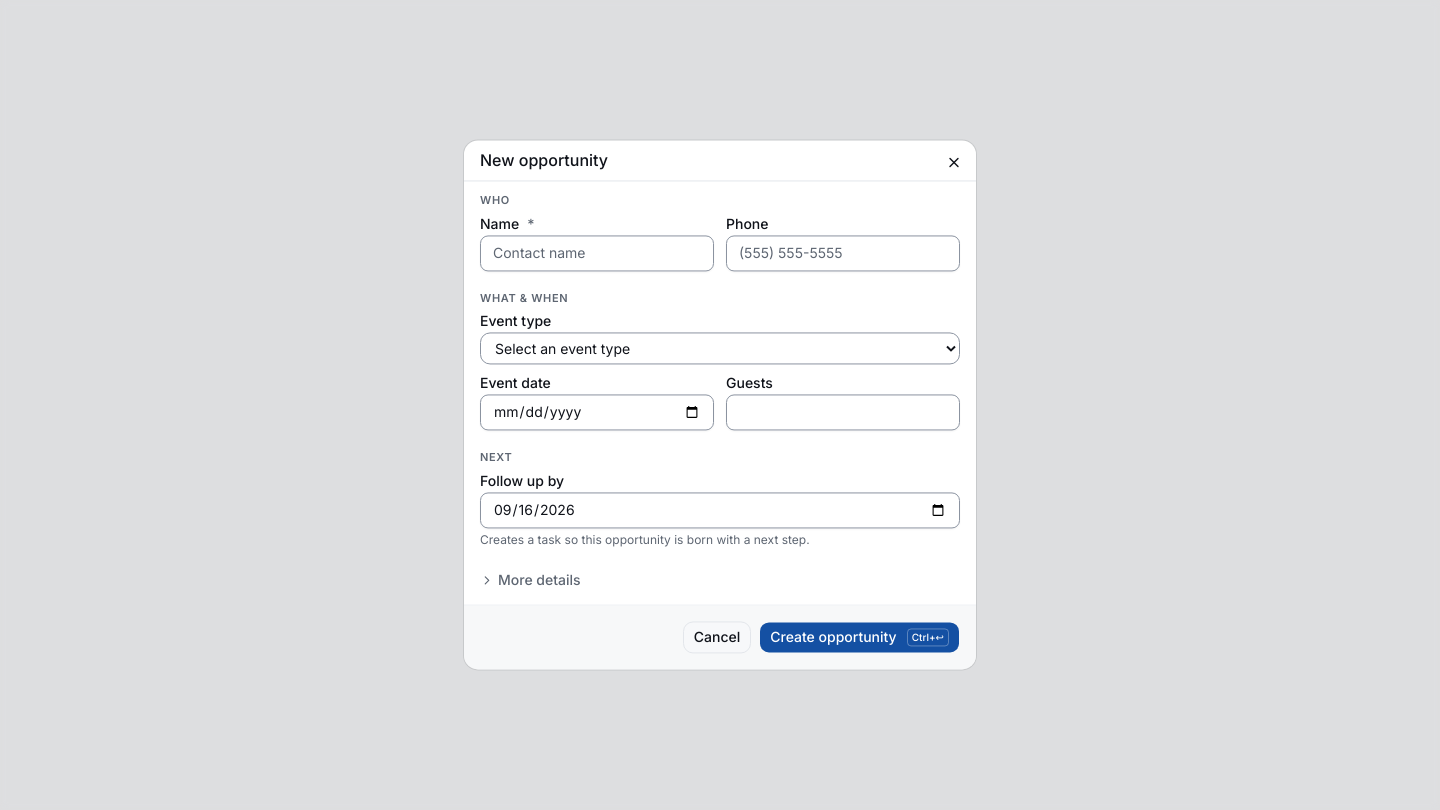
NewEventTypePopover (inline create-in-flow) › create › announces when the name already existed and its saved policy overrides the toggles
The width and height of the screenshot is (1440, 810).
Select "+ New event type…" in the dropdown labelled "Event type": (720, 349) [480,333,960,365]
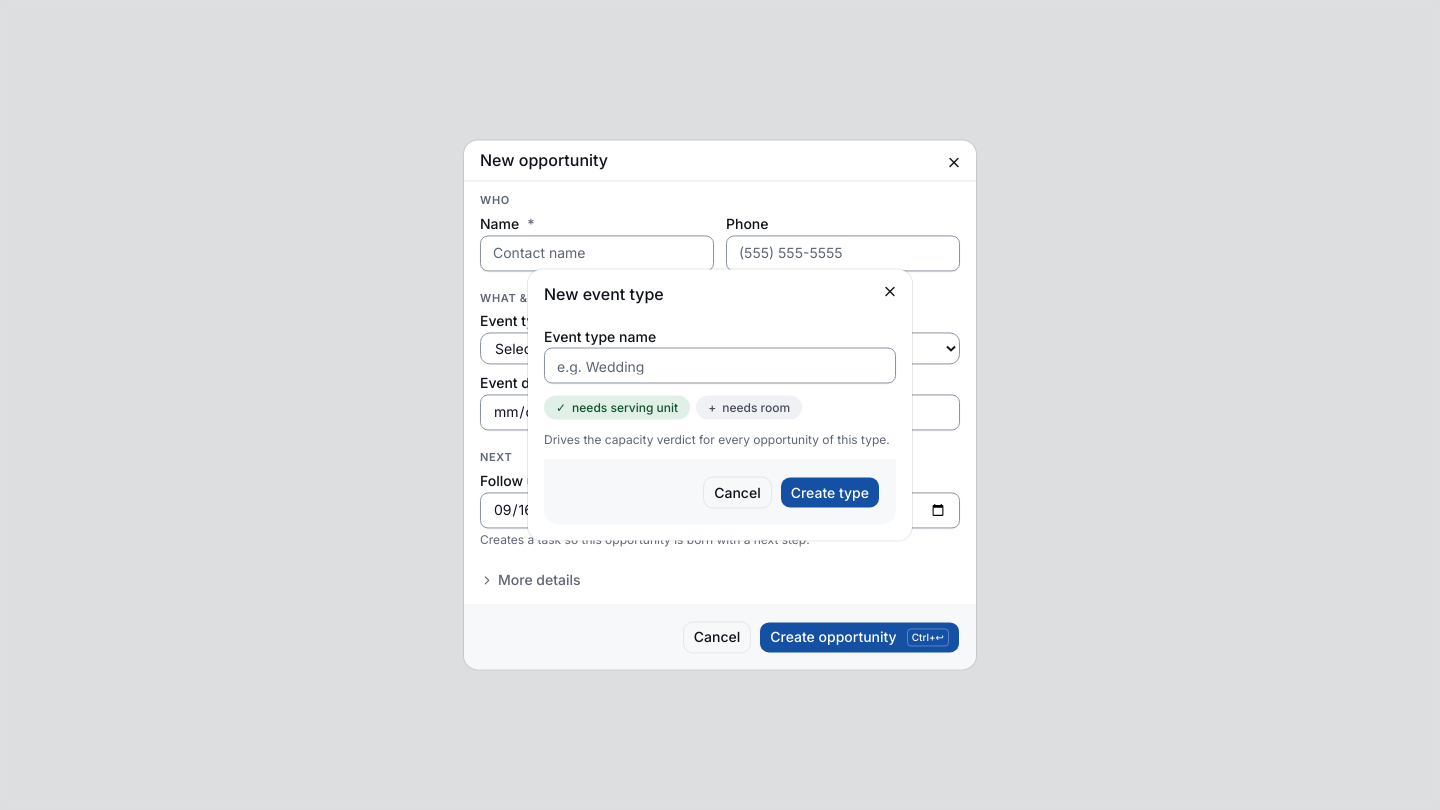
In the field labelled "Event type name": (720, 366) [544,348,896,384], type "wedding"
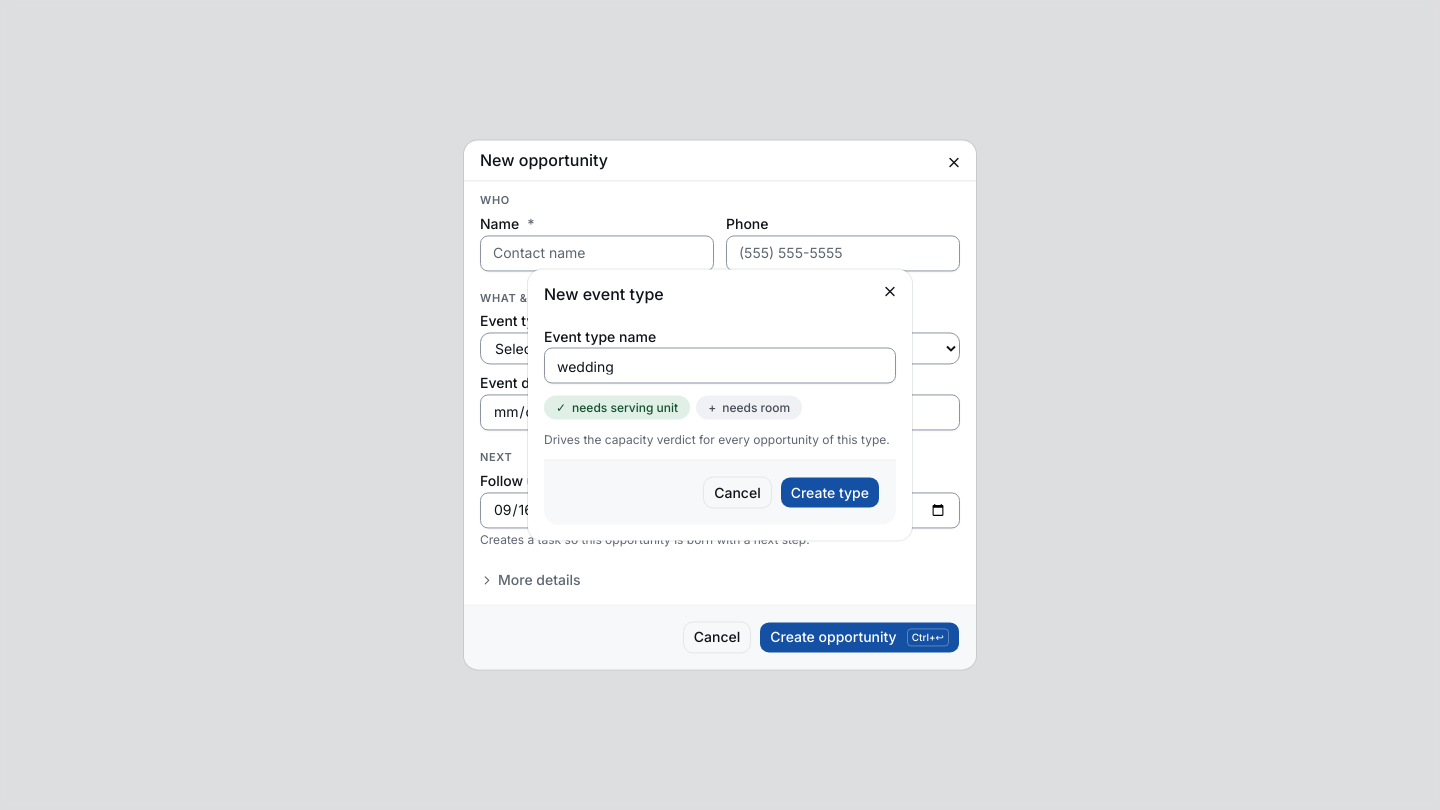
Click the button "Create type": (830, 492) [780,476,880,508]
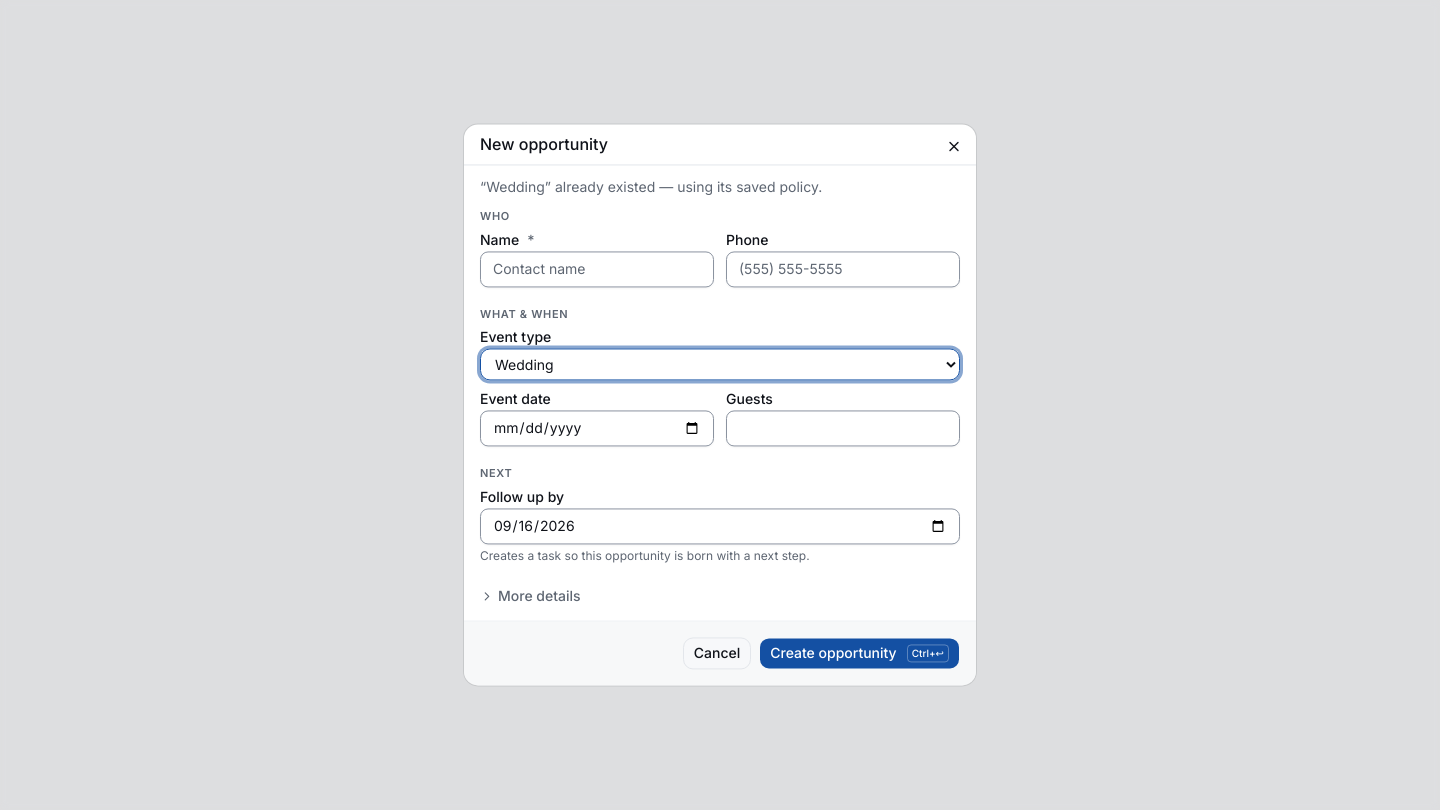
Expected: the heading "New event type" is gone
Expected: the text "“Wedding” already existed — using its saved policy." is shown, [480,178,822,195]
Expected: the dropdown labelled "Event type" shows "Wedding", [480,349,960,381]
